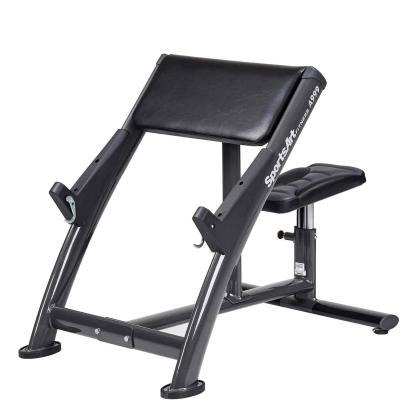arm curl machine: (18, 53, 399, 399)
